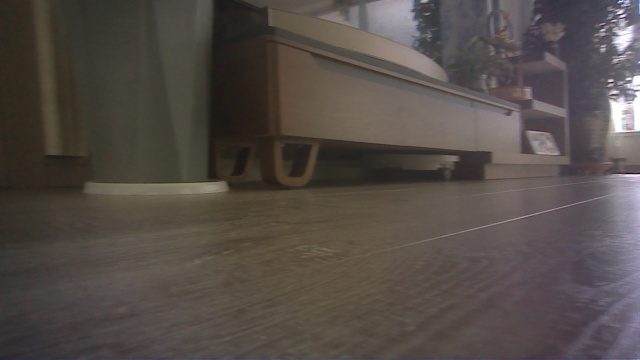TV_stand: (211, 2, 568, 190)
